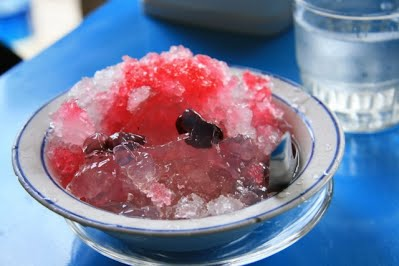O-eo: (37, 49, 336, 226)
